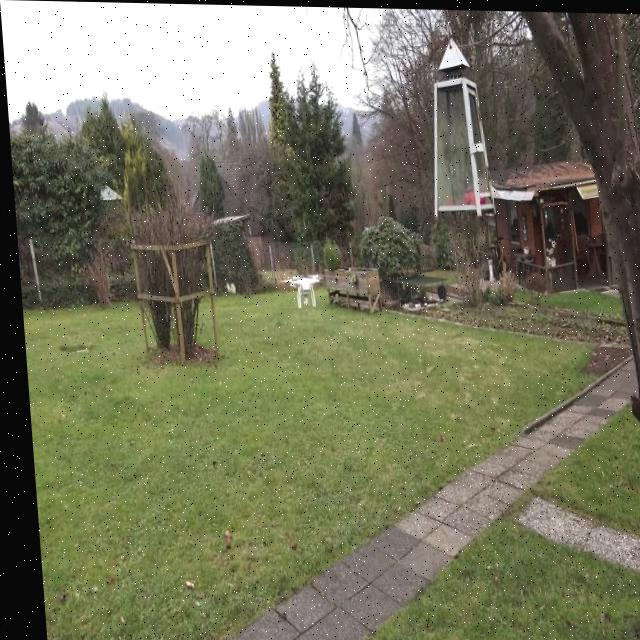drone: (282, 265, 319, 309)
